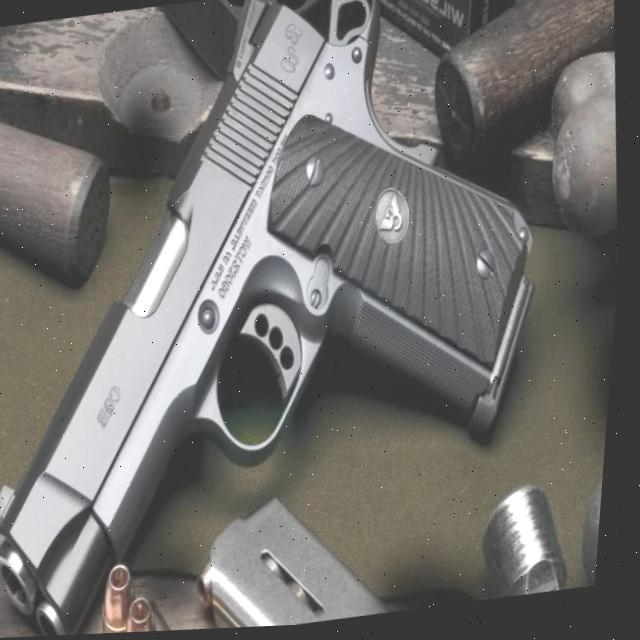gun: (0, 0, 583, 640)
